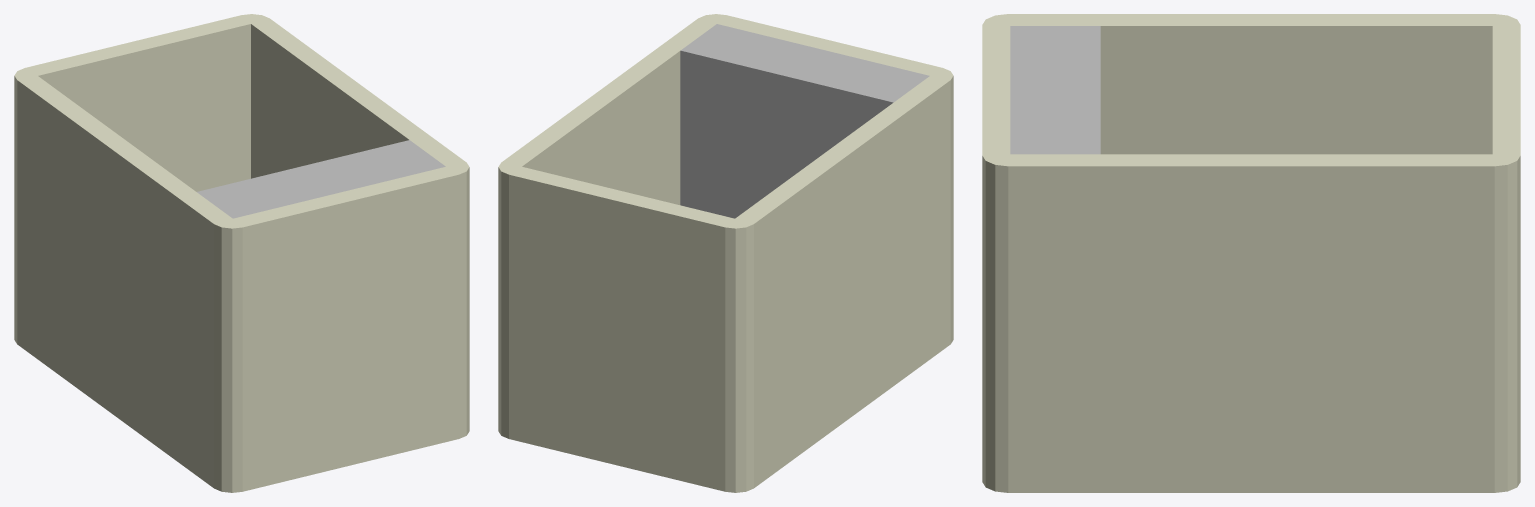
3 renders of one model, left to right at view 1: azimuth 30°, elevation 25°; view 2: azimuth 150°, elevation 25°; view 3: azimuth 270°, elevation 25°, orthographic. The views are drawn at different scales.
Parts seen in each view (by area): view 1: nightstand modern tube; view 2: nightstand modern tube; view 3: nightstand modern tube.
Boxes of the visible parts, x1,y1,x2,y2 form: nightstand modern tube: (14,14,469,492); nightstand modern tube: (498,14,953,492); nightstand modern tube: (982,14,1520,492).
Size of the model in its own units: 16 by 16 by 23.9.
